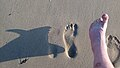human_footprint: (89, 14, 113, 67), (89, 14, 108, 44), (63, 23, 76, 57), (106, 35, 119, 66)
